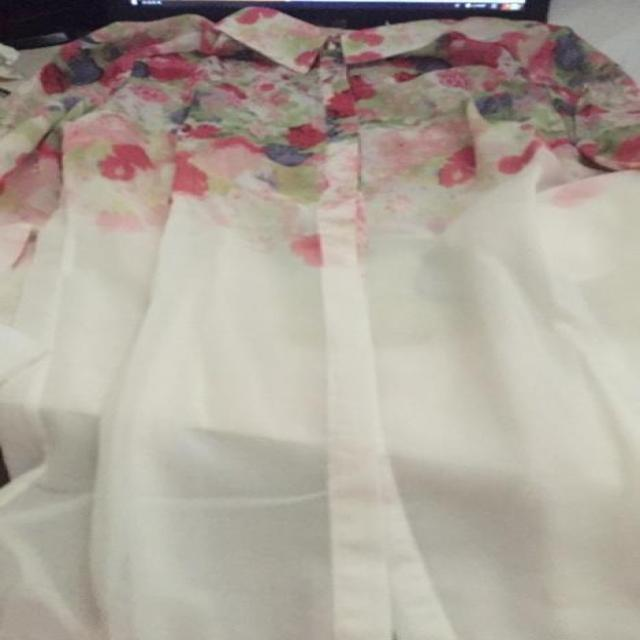long sleeve top: (0, 4, 637, 637)
